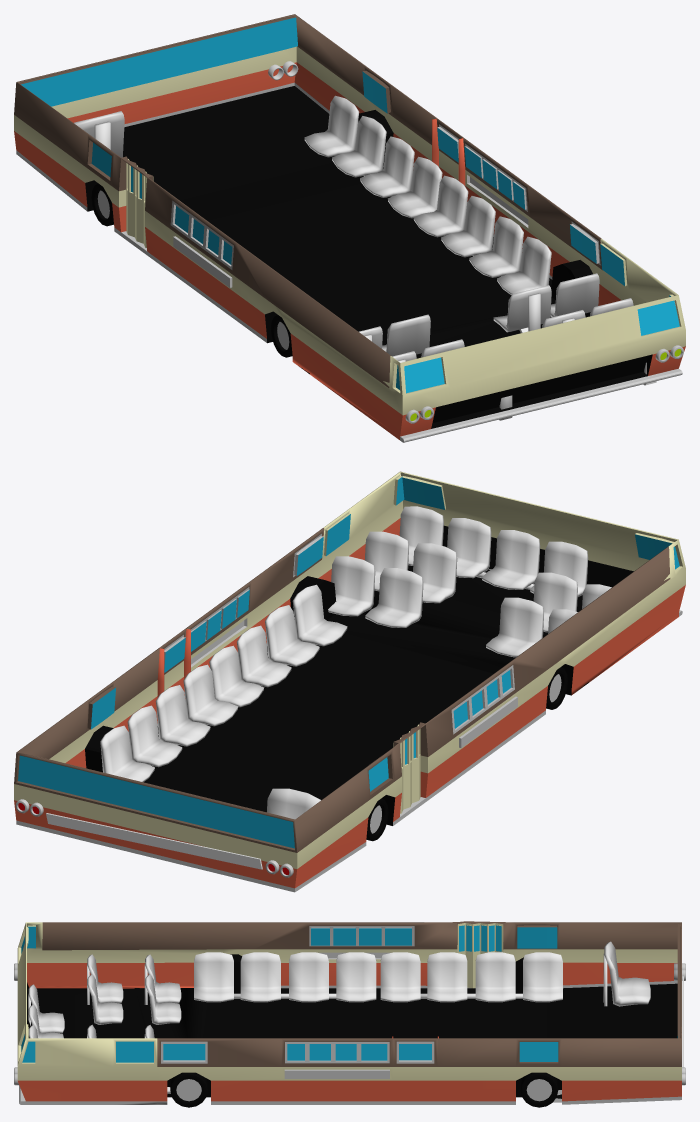
The model's file is bus2.fbx.
The picture shows the model from 3 angles, top to bottom: view 1: azimuth 30°, elevation 25°; view 2: azimuth 150°, elevation 25°; view 3: azimuth 270°, elevation 25°; orthographic projection. The views are drawn at different scales.
Visible parts, largest first — view 1: Cylinder.001, metrouloke.002, metrouloke.001, metrouloke.005, metrouloke.006, metrouloke.010, metrouloke.004; view 2: Cylinder.001, metrouloke.003, metrouloke.001, metrouloke.002, metrouloke.005, metrouloke.004, metrouloke.006, metrouloke.007, metrouloke.010; view 3: Cylinder.001, metrouloke.009, metrouloke.008, metrouloke.006, metrouloke.010, metrouloke.007, metrouloke.003.
Part boxes in pixels (x1,y1,x2,y2): Cylinder.001: (14,14,685,442); metrouloke.002: (304,95,442,218); metrouloke.001: (413,175,551,294); metrouloke.005: (493,273,599,333); metrouloke.006: (359,314,430,356); metrouloke.010: (74,111,124,157); metrouloke.004: (542,298,633,327); Cylinder.001: (14,471,685,892); metrouloke.003: (399,506,588,596); metrouloke.001: (209,584,347,707); metrouloke.002: (100,664,238,782); metrouloke.005: (328,556,423,627); metrouloke.004: (364,531,457,603); metrouloke.006: (486,597,577,657); metrouloke.007: (533,572,611,632); metrouloke.010: (267,788,320,819); Cylinder.001: (14,921,685,1107); metrouloke.009: (380,952,562,1002); metrouloke.008: (194,952,376,1002); metrouloke.006: (144,954,181,1024); metrouloke.010: (603,941,650,1006); metrouloke.007: (87,954,123,1024); metrouloke.003: (28,984,64,1038).
Bounding box in the file's own units: 857 × 246 × 2026.
